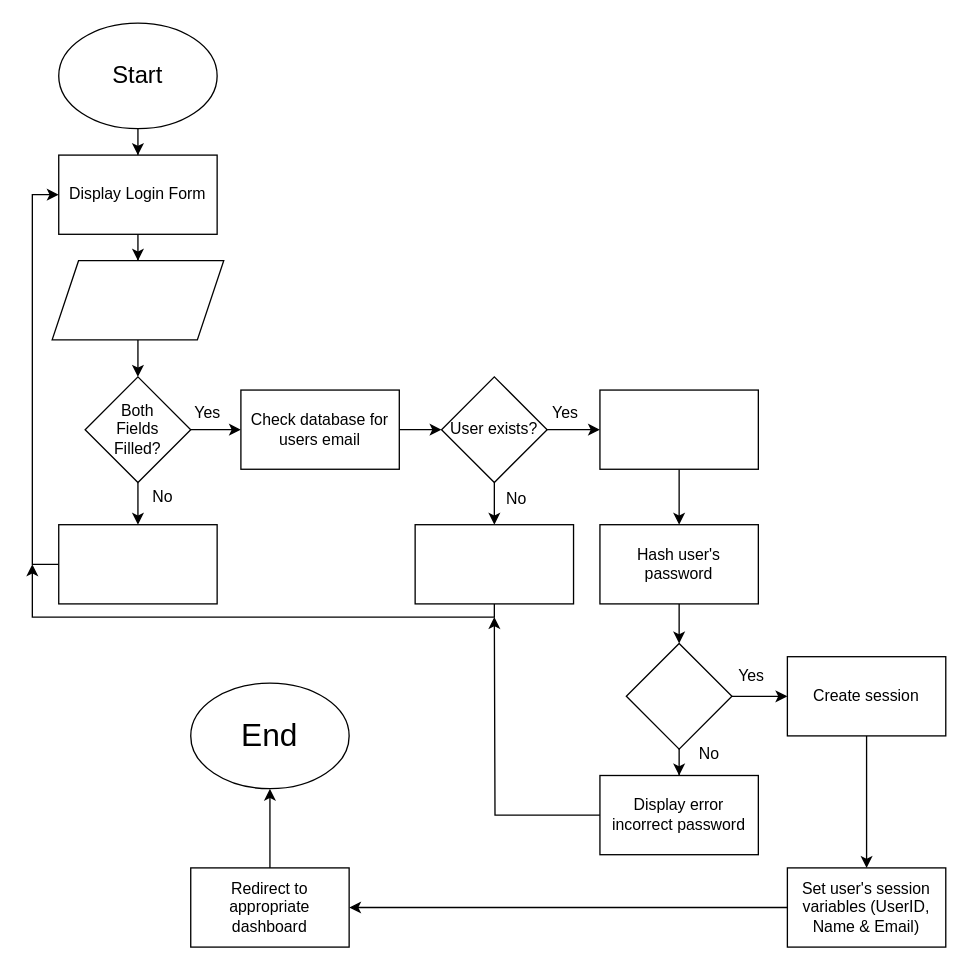
This 969x970 diagram has some shape labels left out. The centre of each missing label's shape, as x and y in pixels:
Display error fill in all fields: the point at 137,563
Display error invalid credentials: the point at 494,563
Passwords Match?: the point at 678,695
Retrieve user's hashed password: the point at 678,429
User Inputs Email & Password: the point at 137,299
